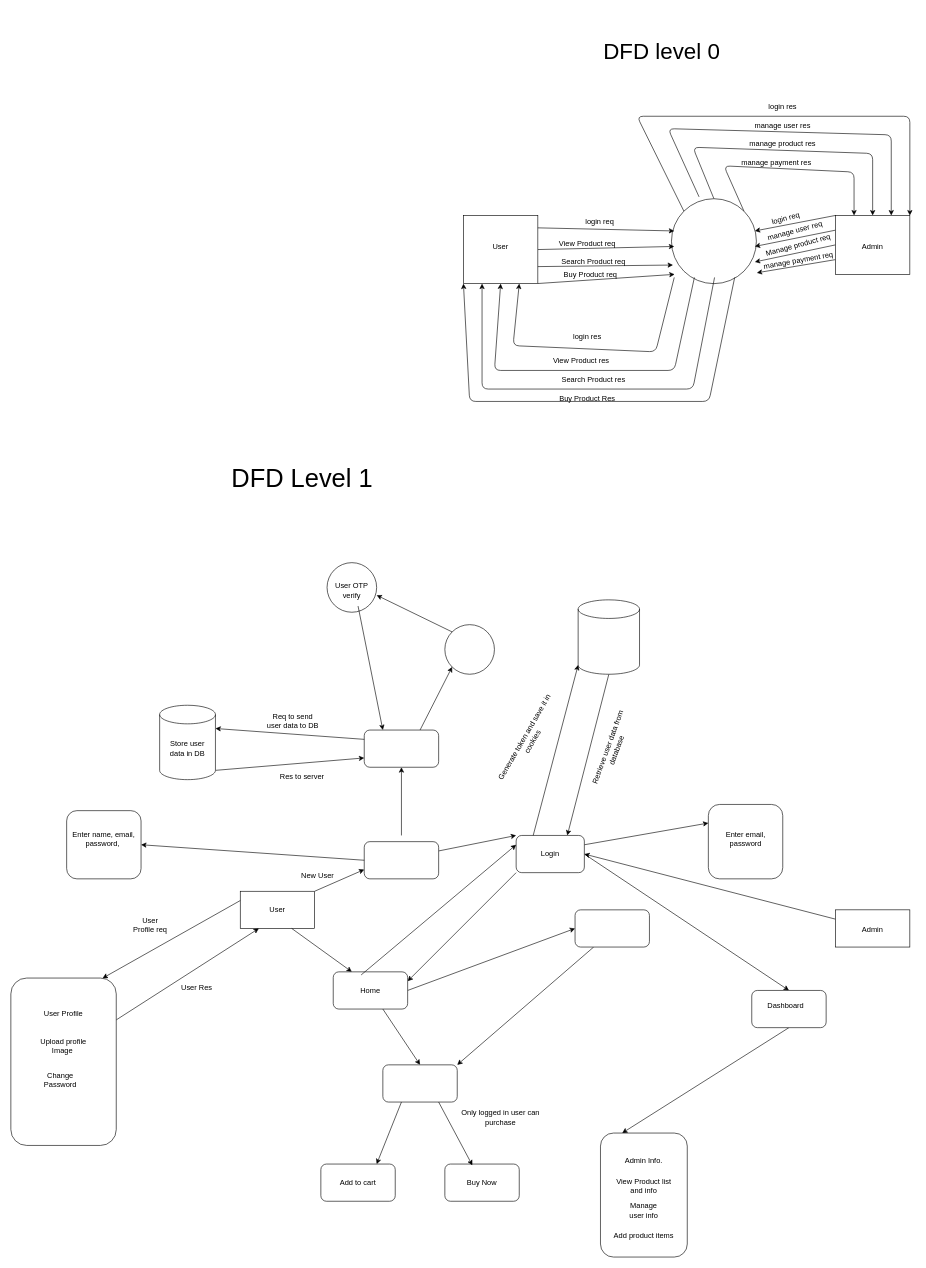
Image size: 926x1268. Some labels were removed from this diagram. Here are the shapes that lost their labels. From the top down, the box of each, then its label:
(671, 198, 756, 284): E-commerce App
(444, 624, 494, 674): Send otp to mail
(578, 599, 640, 674): Retrieve user data from DB
(364, 729, 439, 767): Send used data to server
(364, 841, 439, 879): Signup
(574, 909, 649, 947): Cart
(382, 1064, 457, 1102): Product
